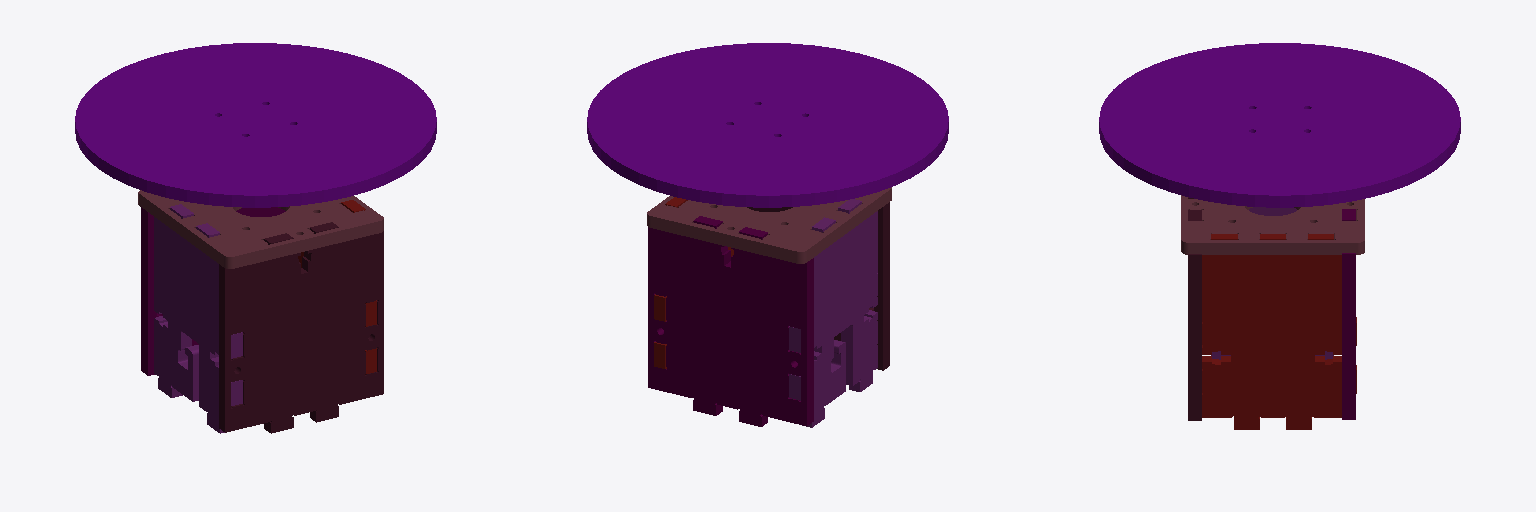
The model's file is G3_overview.obj.
3 renders of one model, left to right at view 1: azimuth 30°, elevation 25°; view 2: azimuth 150°, elevation 25°; view 3: azimuth 270°, elevation 25°, orthographic.
Parts seen in each view (by area): view 1: Curve.022_Mesh, Mesh.001_Mesh.025_Mesh.010.000, Mesh.003_Mesh.001_Curve_Mesh, Mesh.004_Mesh.010_Mesh.031_Cur, Mesh_Mesh.012_Mesh.039_Mes, Mesh.002_Curve.001_Mesh.001; view 2: Curve.022_Mesh, Mesh_Mesh.012_Mesh.039_Mes, Mesh.003_Mesh.001_Curve_Mesh, Mesh.004_Mesh.010_Mesh.031_Cur, Mesh.001_Mesh.025_Mesh.010.000, Mesh.002_Curve.001_Mesh.001; view 3: Curve.022_Mesh, Mesh.002_Curve.001_Mesh.001, Mesh.004_Mesh.010_Mesh.031_Cur, Mesh_Mesh.012_Mesh.039_Mes, Mesh.001_Mesh.025_Mesh.010.000.
Part boxes in pixels (bbox=[...]): Curve.022_Mesh: bbox=[75, 43, 436, 207]; Mesh.001_Mesh.025_Mesh.010.000: bbox=[219, 222, 383, 433]; Mesh.003_Mesh.001_Curve_Mesh: bbox=[154, 204, 242, 433]; Mesh.004_Mesh.010_Mesh.031_Cur: bbox=[138, 190, 383, 268]; Mesh_Mesh.012_Mesh.039_Mes: bbox=[141, 207, 285, 375]; Mesh.002_Curve.001_Mesh.001: bbox=[298, 200, 376, 374]; Curve.022_Mesh: bbox=[587, 43, 948, 207]; Mesh_Mesh.012_Mesh.039_Mes: bbox=[648, 216, 813, 426]; Mesh.003_Mesh.001_Curve_Mesh: bbox=[789, 199, 877, 427]; Mesh.004_Mesh.010_Mesh.031_Cur: bbox=[647, 187, 891, 263]; Mesh.001_Mesh.025_Mesh.010.000: bbox=[747, 202, 889, 370]; Mesh.002_Curve.001_Mesh.001: bbox=[654, 197, 733, 368]; Curve.022_Mesh: bbox=[1099, 43, 1460, 207]; Mesh.002_Curve.001_Mesh.001: bbox=[1202, 234, 1356, 429]; Mesh.004_Mesh.010_Mesh.031_Cur: bbox=[1181, 195, 1364, 254]; Mesh_Mesh.012_Mesh.039_Mes: bbox=[1342, 209, 1355, 419]; Mesh.001_Mesh.025_Mesh.010.000: bbox=[1188, 197, 1201, 420].
Size of the model in its own units: 5.43 by 4.53 by 5.43.